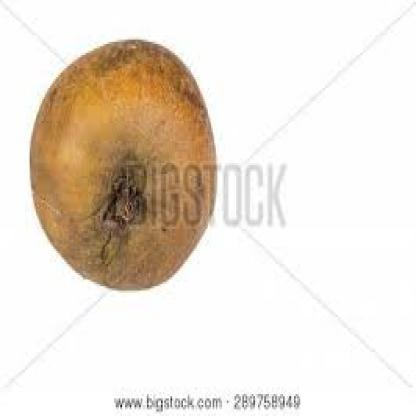damaged_apple: (33, 49, 211, 288)
